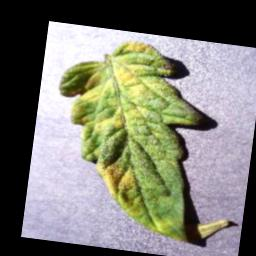Leaf_Mold: (49, 47, 159, 165), (90, 158, 152, 219), (118, 38, 155, 58)
